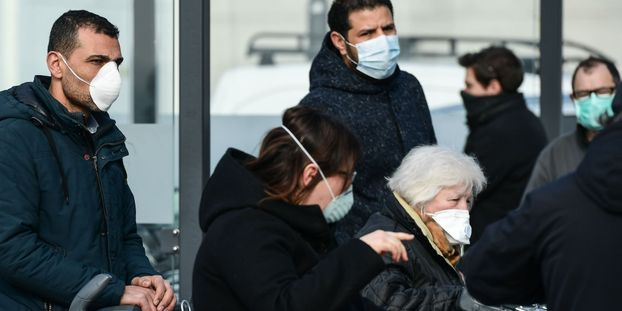with_mask: (75, 41, 126, 118), (311, 143, 358, 226), (348, 8, 402, 80), (426, 178, 475, 251), (570, 70, 619, 130)
without_mask: (458, 63, 494, 116)
